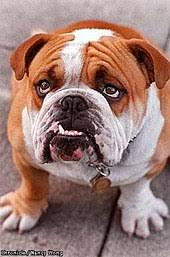Bulldog: (1, 18, 170, 242)
